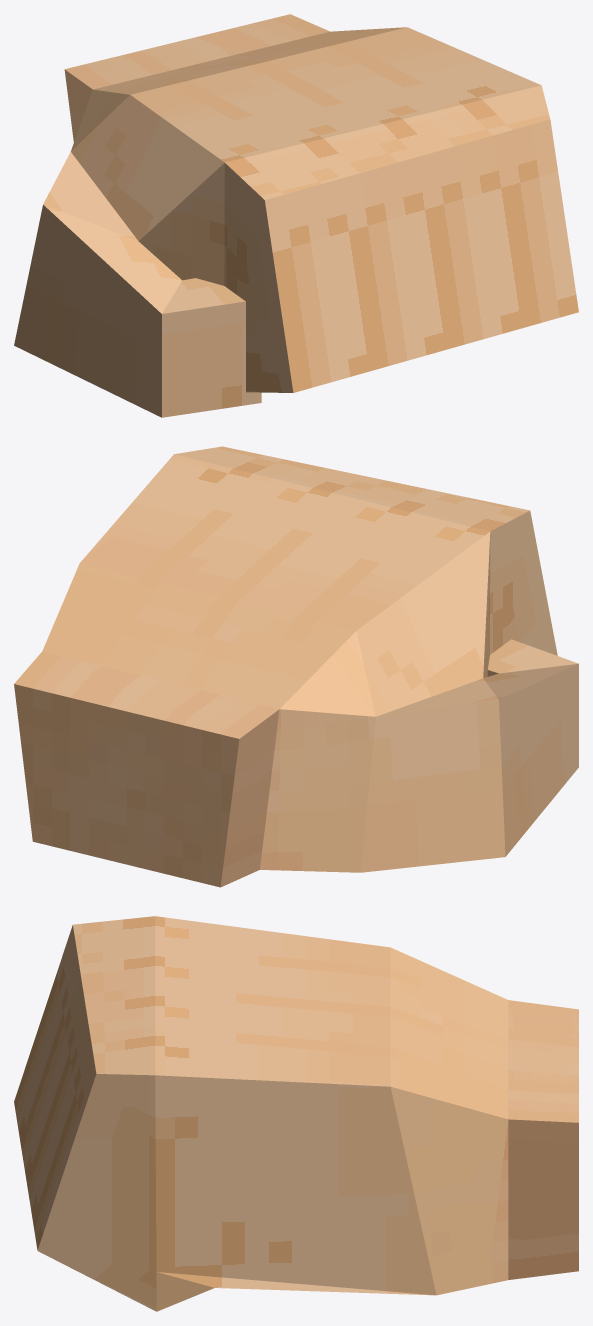
The model's file is mano_izquierda.fbx.
3 renders of one model, top to bottom at view 1: azimuth 30°, elevation 25°; view 2: azimuth 150°, elevation 25°; view 3: azimuth 270°, elevation 25°, orthographic. The views are drawn at different scales.
Visible parts, largest first — view 1: cuboid; view 2: cuboid; view 3: cuboid.
Part boxes in pixels (left/top/right/bottom): cuboid: left=14, top=14, right=578, bottom=417; cuboid: left=14, top=446, right=578, bottom=887; cuboid: left=14, top=916, right=578, bottom=1311.
Size of the model in its own units: 136 by 69.29 by 150.
Materials: 1 (1 with a texture image).
